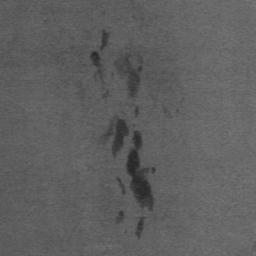Iron scale compression: (128, 132, 157, 214), (124, 56, 142, 98), (112, 120, 129, 153), (90, 52, 103, 73), (134, 217, 146, 237), (101, 32, 110, 50), (117, 211, 124, 224), (134, 107, 139, 120), (104, 90, 109, 98)
